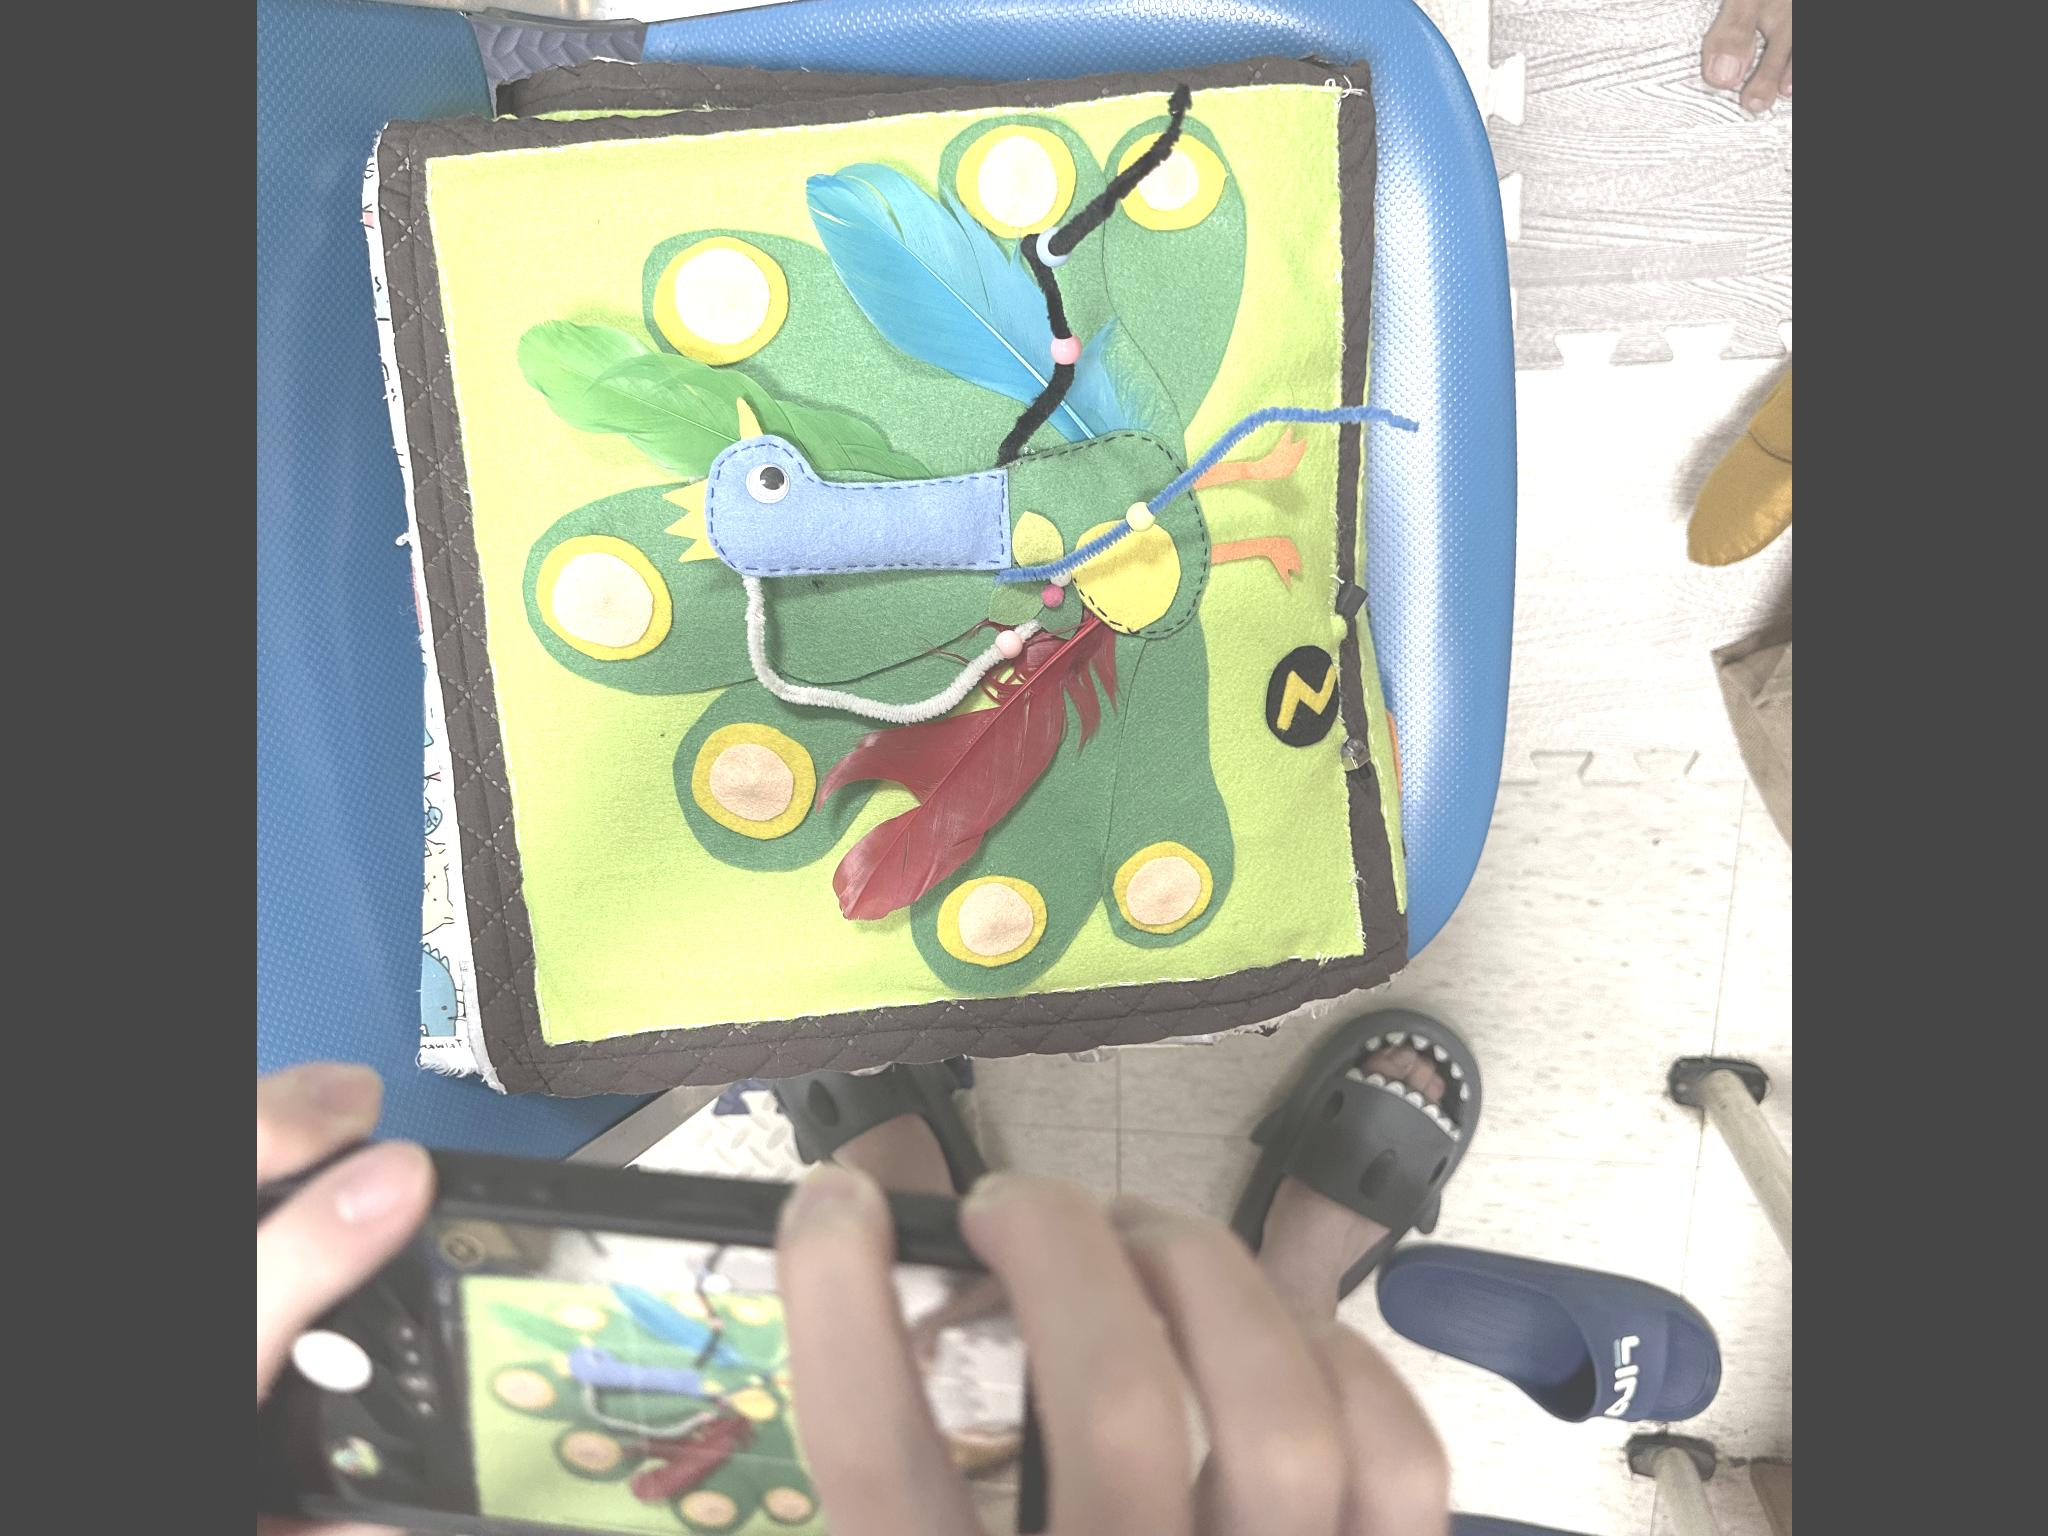bead: (1030, 313, 1093, 386), (1021, 216, 1089, 278), (1101, 492, 1166, 550), (985, 623, 1051, 670)
